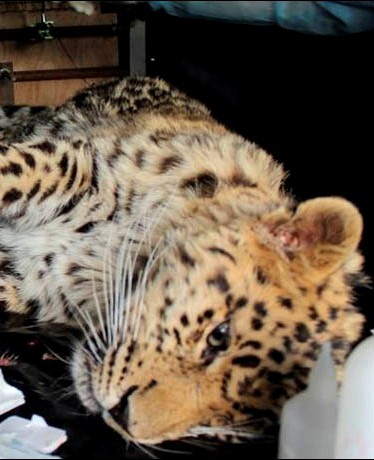amur_leopard: (17, 76, 368, 445)
